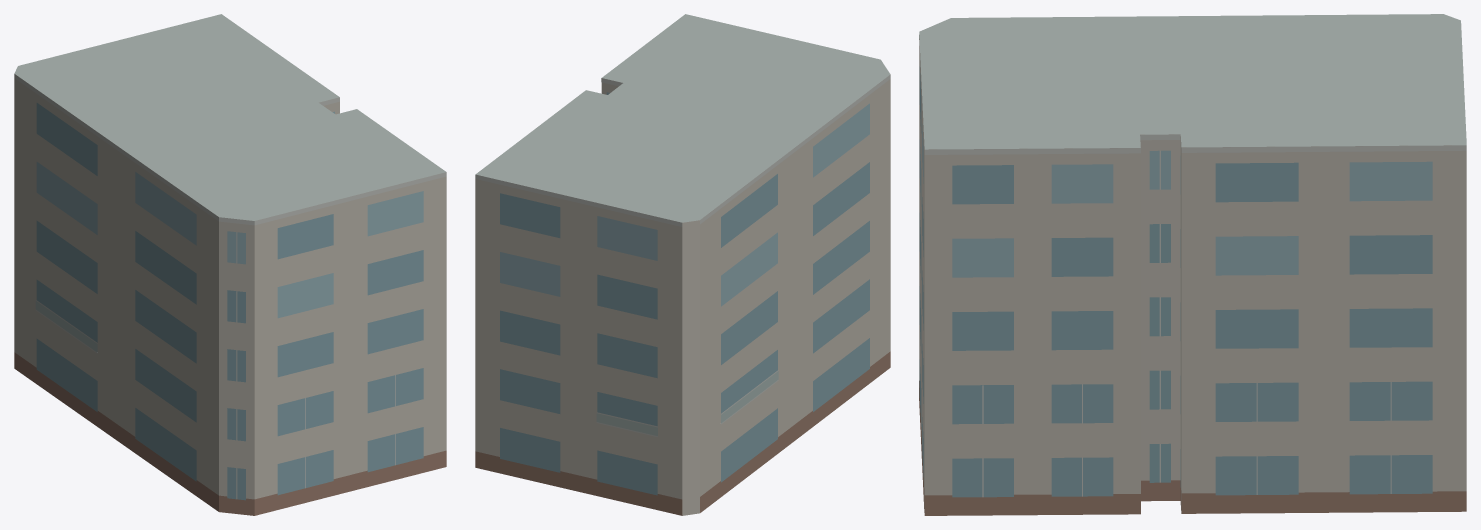
File: survey-upis-33008152.glb
3 views of the same model, side by side, from view 1: azimuth 30°, elevation 25°; view 2: azimuth 150°, elevation 25°; view 3: azimuth 270°, elevation 25° (orthographic). The views are drawn at different scales.
Visible parts, largest first — view 1: survey-upis-33008152.tmp; view 2: survey-upis-33008152.tmp; view 3: survey-upis-33008152.tmp.
Part boxes in pixels (x1,y1,x2,y2): survey-upis-33008152.tmp: (14, 14, 446, 515); survey-upis-33008152.tmp: (475, 14, 890, 515); survey-upis-33008152.tmp: (919, 14, 1466, 515).
Bounding box in the file's own units: 12.9 × 16.25 × 22.02.
